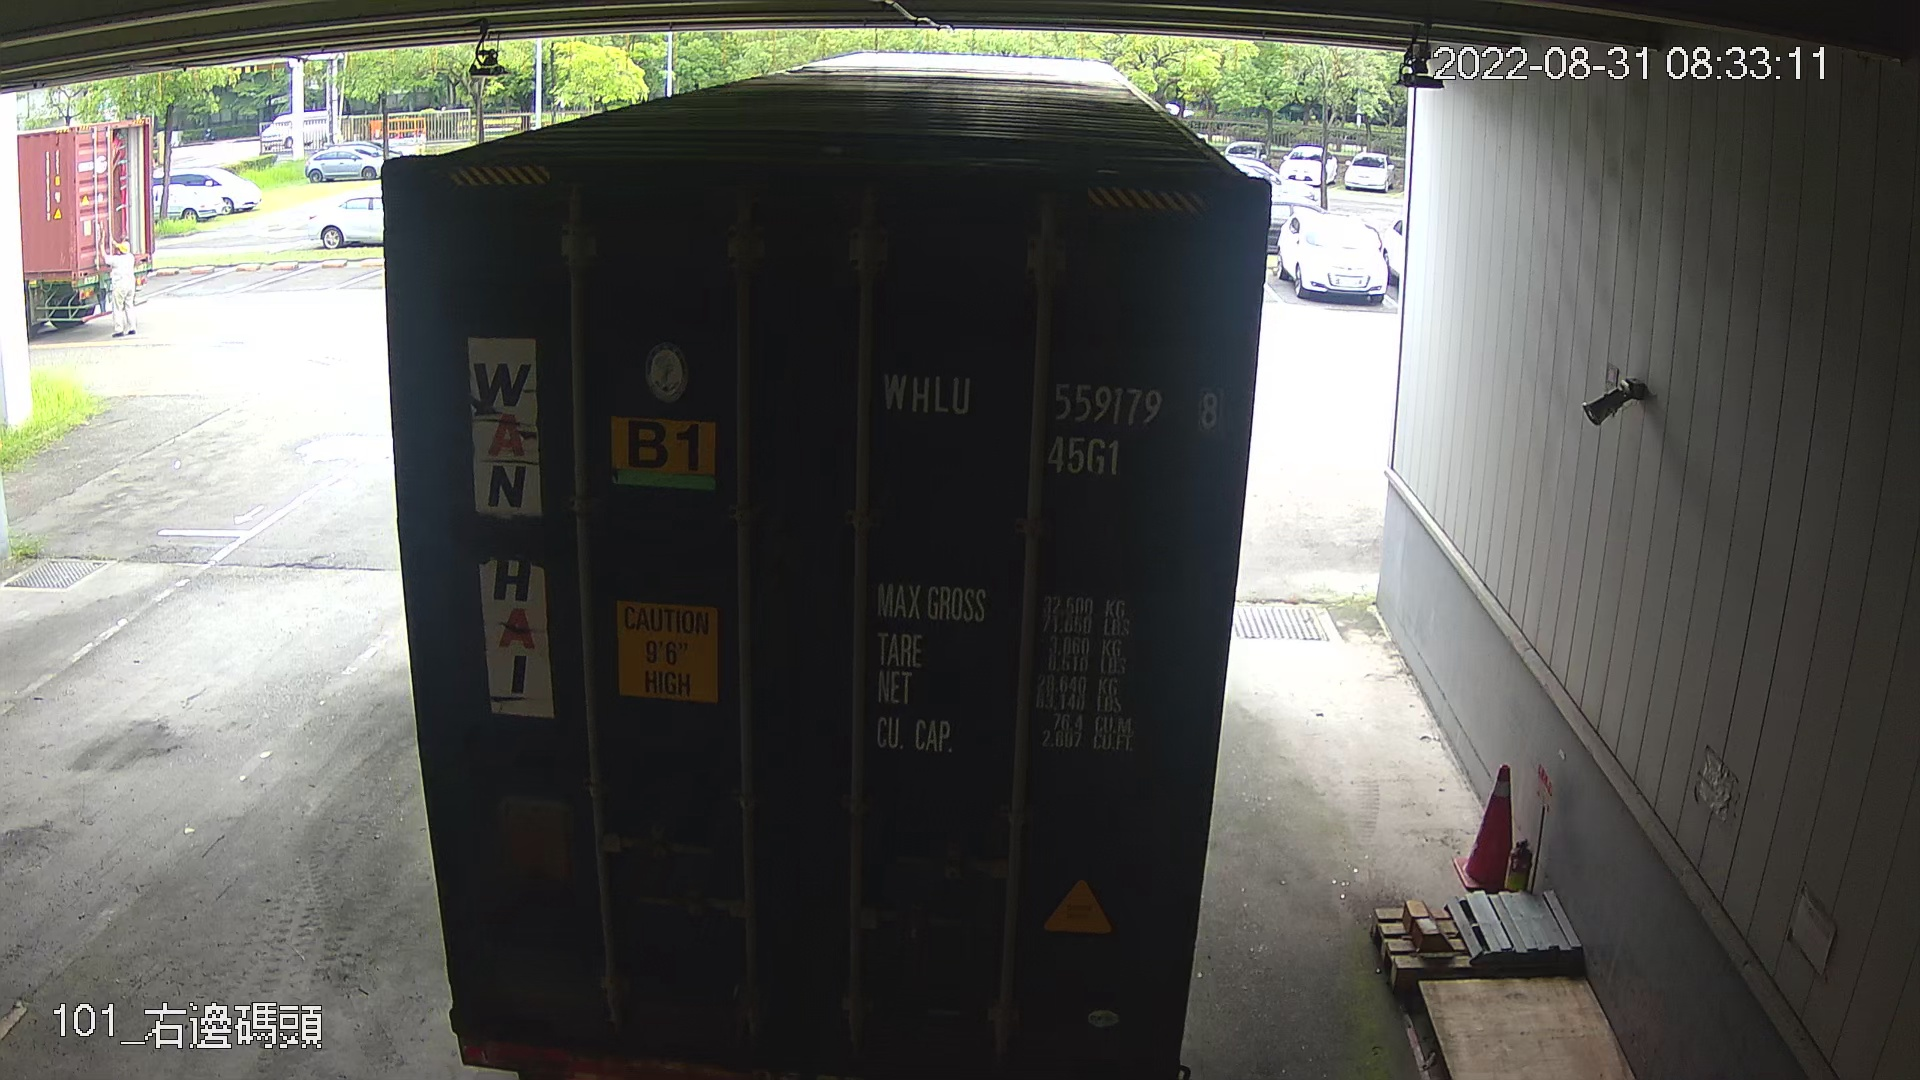container: (1019, 204, 1204, 280)
